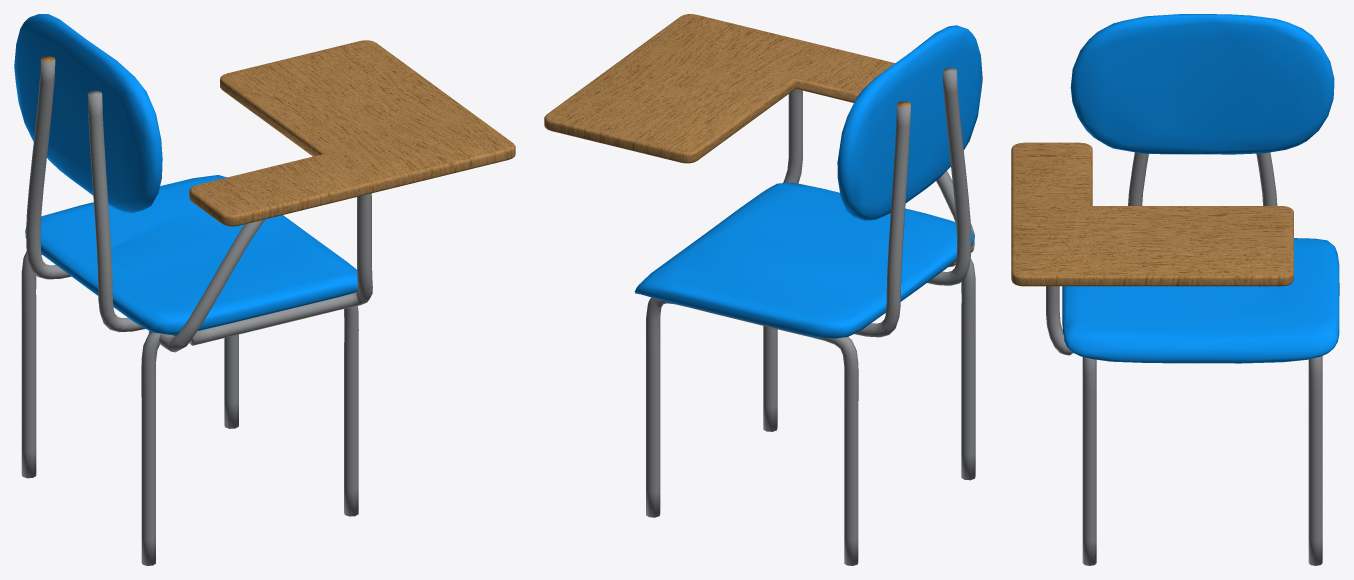
The model's file is school_desk_1.gltf.
3 views of the same model, side by side, from view 1: azimuth 30°, elevation 25°; view 2: azimuth 150°, elevation 25°; view 3: azimuth 270°, elevation 25° (orthographic). The views are drawn at different scales.
Parts seen in each view (by area): view 1: chairlowpoly; view 2: chairlowpoly; view 3: chairlowpoly.
Boxes of the visible parts, left/top/right/bottom form: chairlowpoly: left=14, top=14, right=515, bottom=565; chairlowpoly: left=544, top=14, right=982, bottom=565; chairlowpoly: left=1011, top=14, right=1339, bottom=565.
Bounding box in the file's own units: 1.64 × 2.11 × 1.38.
Materials: 1 (1 with a texture image).
